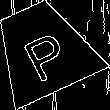P_NW: (13, 18, 72, 80)
